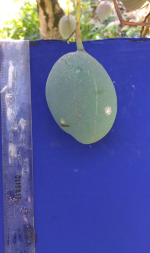Mango-sano: (46, 43, 116, 143)
